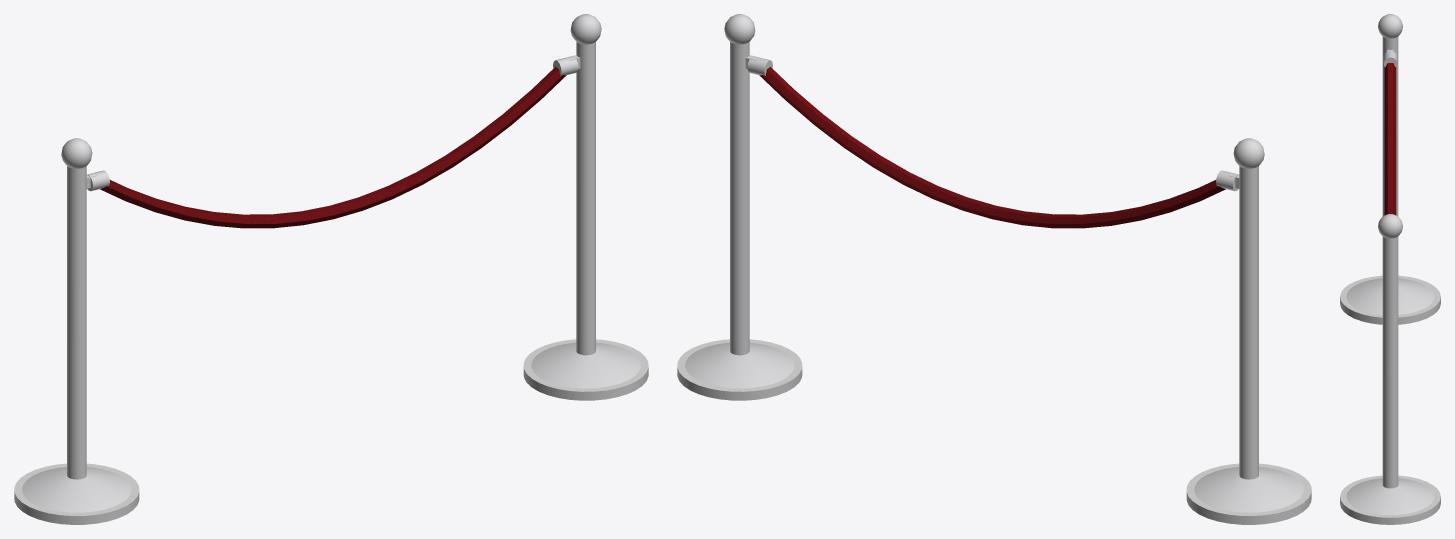
The model's file is stanchion_rope.gltf.
3 views of the same model, side by side, from view 1: azimuth 30°, elevation 25°; view 2: azimuth 150°, elevation 25°; view 3: azimuth 270°, elevation 25° (orthographic). The views are drawn at different scales.
Parts seen in each view (by area): view 1: stanchion_rope; view 2: stanchion_rope; view 3: stanchion_rope.
Part boxes in pixels (left/top/right/bottom): stanchion_rope: left=14, top=14, right=648, bottom=524; stanchion_rope: left=677, top=14, right=1311, bottom=524; stanchion_rope: left=1340, top=14, right=1440, bottom=524.
Bounding box in the file's own units: 1.82 × 1.01 × 0.32.
Materials: 2 (1 with a texture image).
